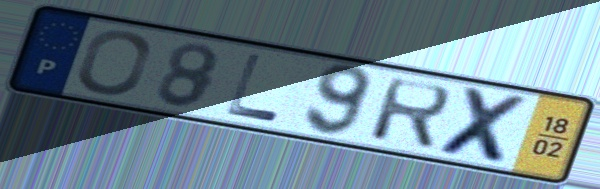8: (152, 41, 222, 109)
9: (300, 61, 375, 141)
L: (222, 51, 284, 125)
O: (73, 29, 153, 97)
R: (366, 75, 455, 153)
X: (433, 83, 536, 170)
